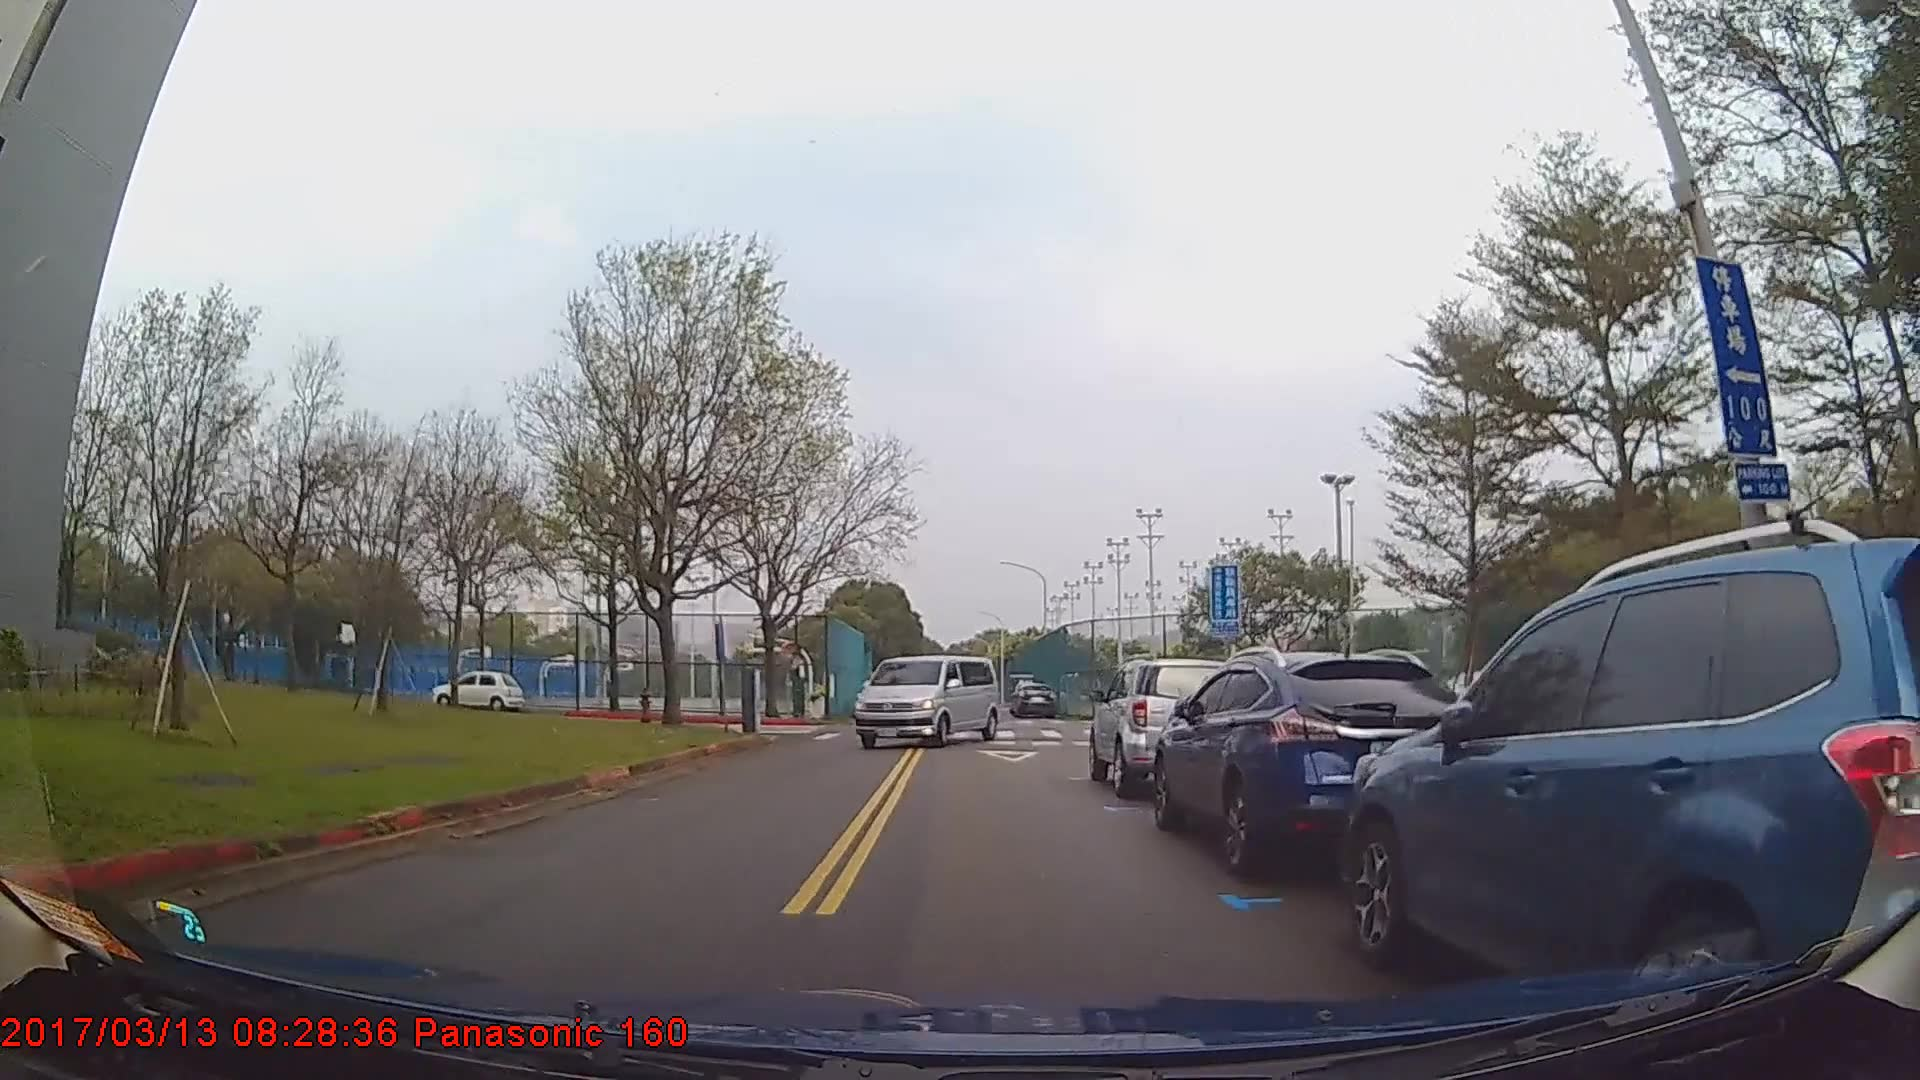vehicle: (1342, 537, 1917, 1011), (1150, 646, 1469, 868), (1088, 658, 1241, 794), (853, 649, 1004, 748), (434, 671, 524, 708), (1013, 680, 1059, 719)
